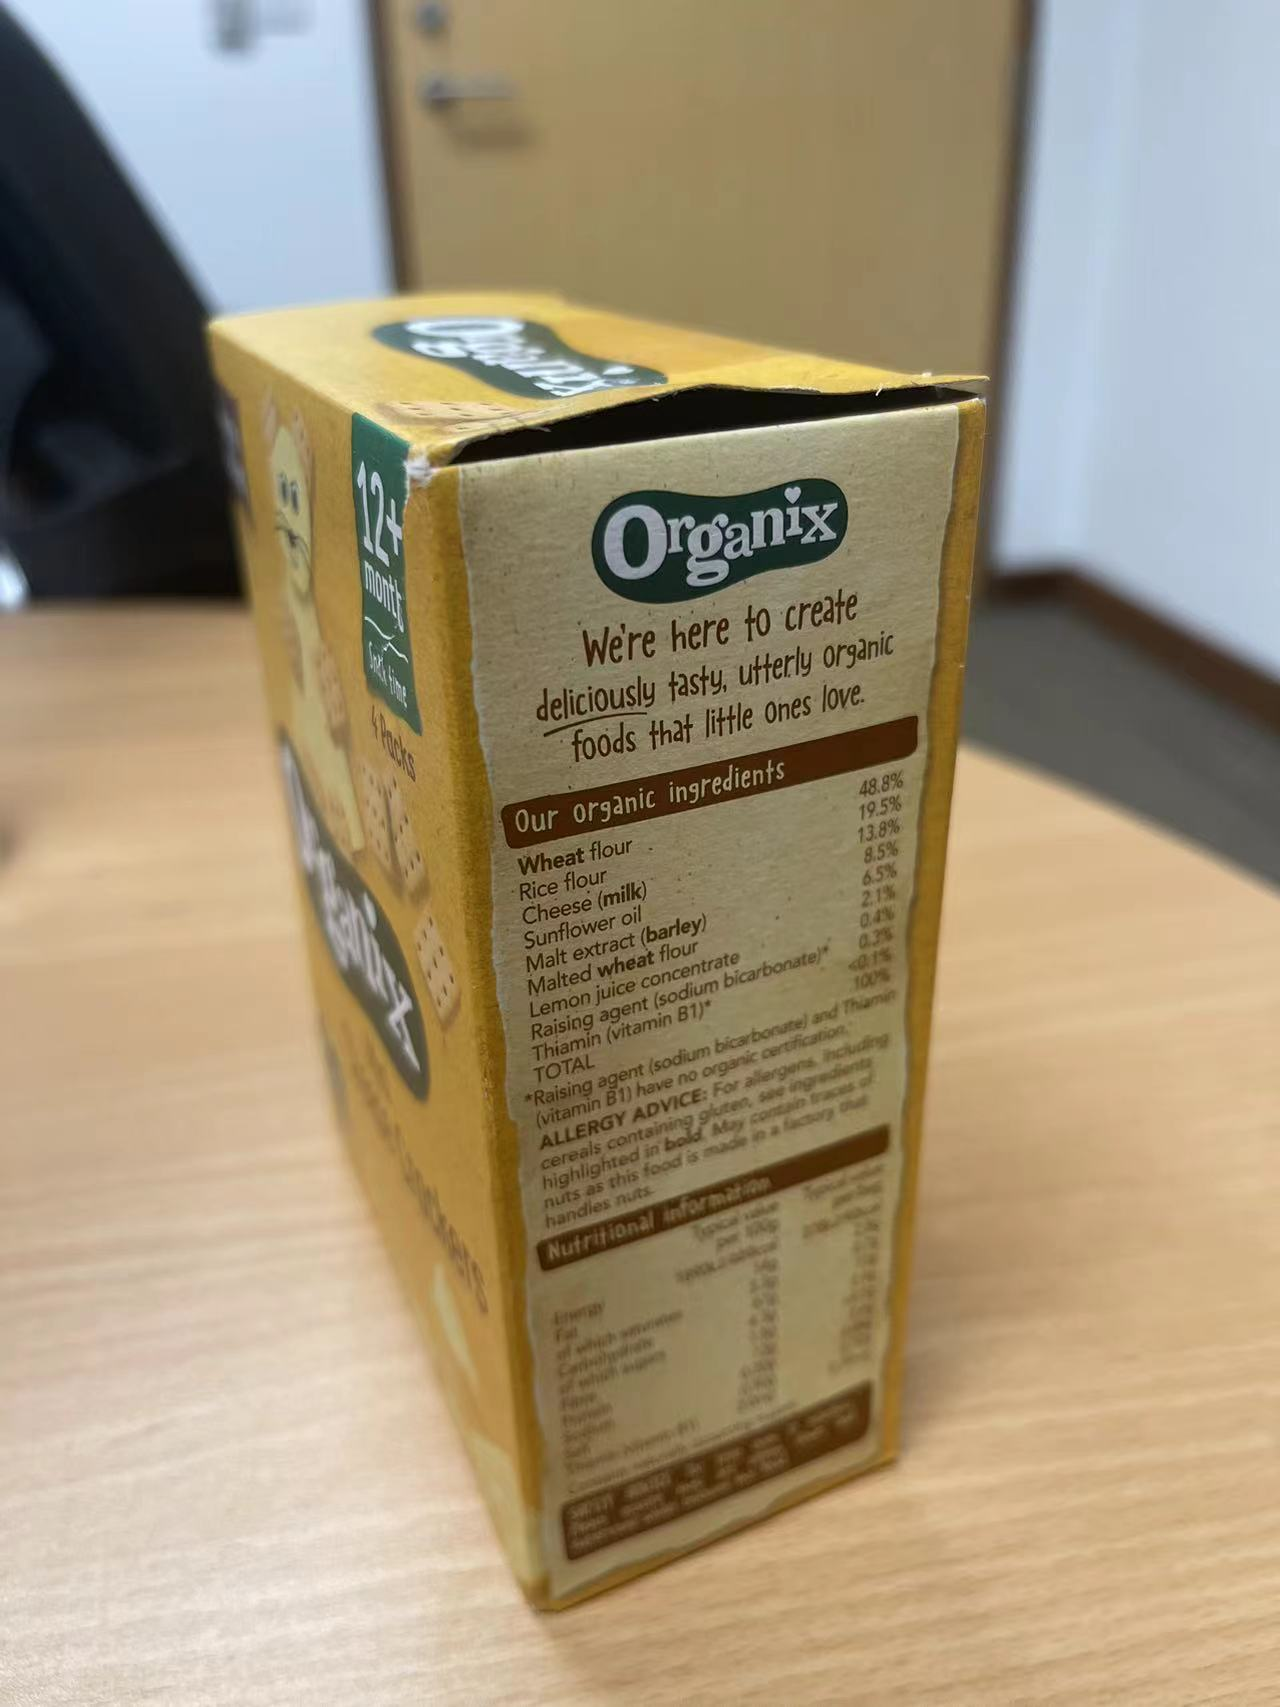Crackers_1-99g_NonHalal_NonHealthy: (194, 294, 951, 1624)
